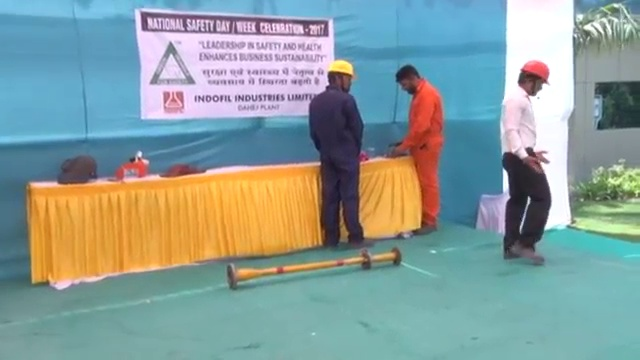helmet: (519, 59, 554, 86), (327, 57, 356, 78)
helmet_off: (393, 64, 425, 94)
helmet_on: (515, 59, 553, 99), (323, 56, 357, 93)
person: (497, 60, 553, 267), (308, 55, 365, 255), (392, 63, 441, 236)
